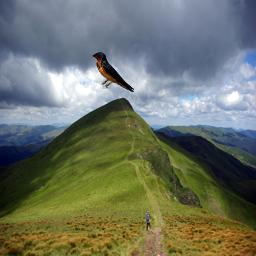Swallow: (90, 52, 134, 93)
